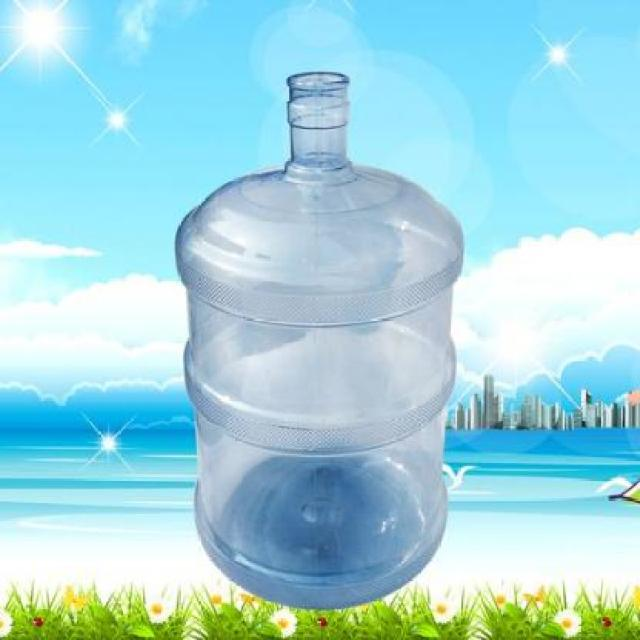coolerbottle: (170, 65, 468, 613)
